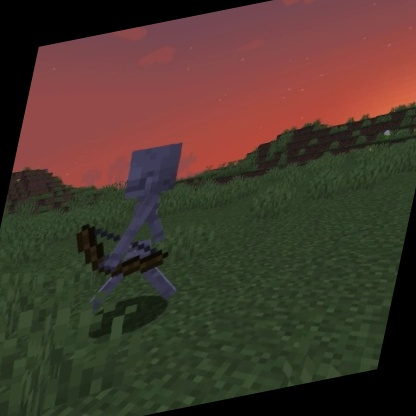skeleton: (54, 130, 214, 326)
